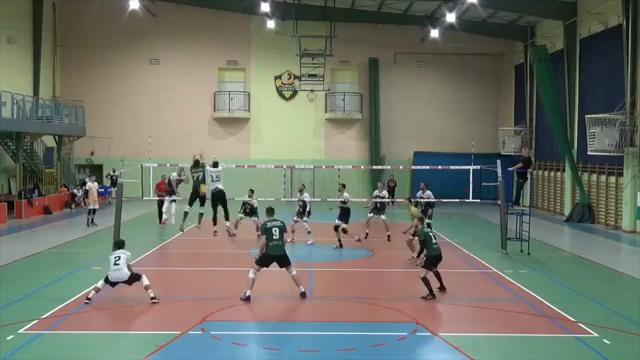attacco: (158, 158, 188, 224)
muro: (177, 149, 207, 231), (205, 151, 233, 236)
